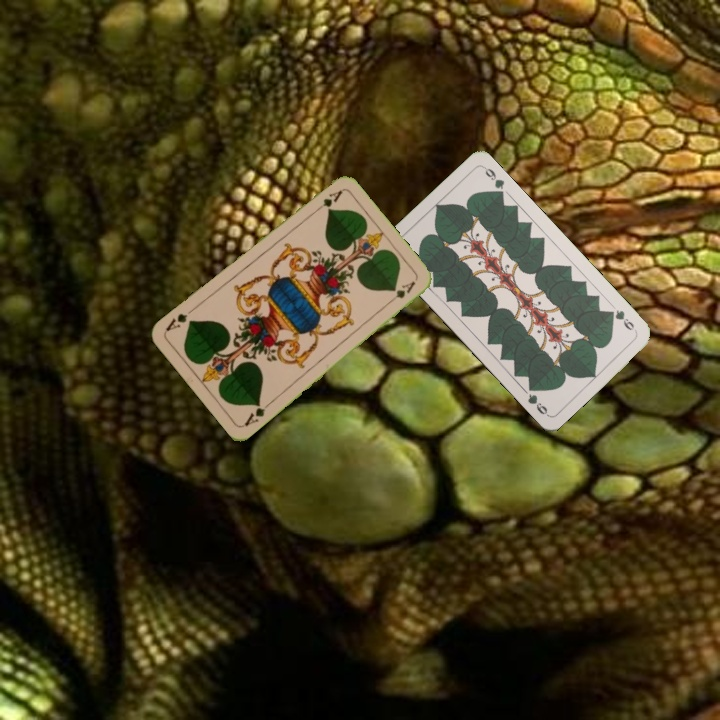G9: (604, 305, 639, 334)
GA: (309, 186, 345, 216), (240, 398, 274, 429)
